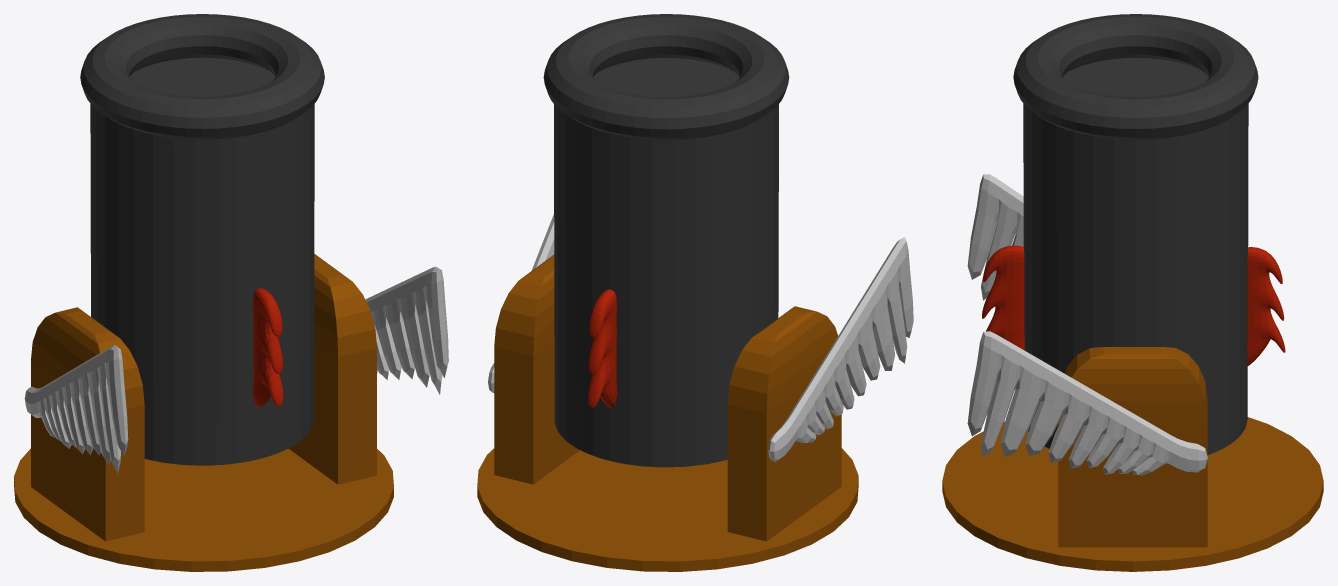
The model's file is Mortier.fbx.
The picture shows the model from 3 angles, left to right: view 1: azimuth 30°, elevation 25°; view 2: azimuth 150°, elevation 25°; view 3: azimuth 270°, elevation 25°; orthographic projection.
Parts seen in each view (by area): view 1: Circle.001, Cylinder, Cube.001, Cube.005; view 2: Circle.001, Cylinder, Cube.001, Cube.005; view 3: Circle.001, Cylinder, Cube.001, Cube.005.
Boxes of the visible parts, x1,y1,x2,y2 form: Circle.001: [80, 14, 324, 465]; Cylinder: [14, 254, 393, 571]; Cube.001: [24, 266, 448, 473]; Cube.005: [252, 288, 283, 406]; Circle.001: [543, 14, 789, 467]; Cylinder: [477, 255, 858, 571]; Cube.001: [488, 214, 913, 461]; Cube.005: [588, 289, 616, 407]; Circle.001: [1013, 14, 1258, 454]; Cylinder: [942, 347, 1323, 571]; Cube.001: [967, 174, 1207, 475]; Cube.005: [982, 245, 1285, 365].
Size of the model in its own units: 2 by 2.02 by 2.51.
